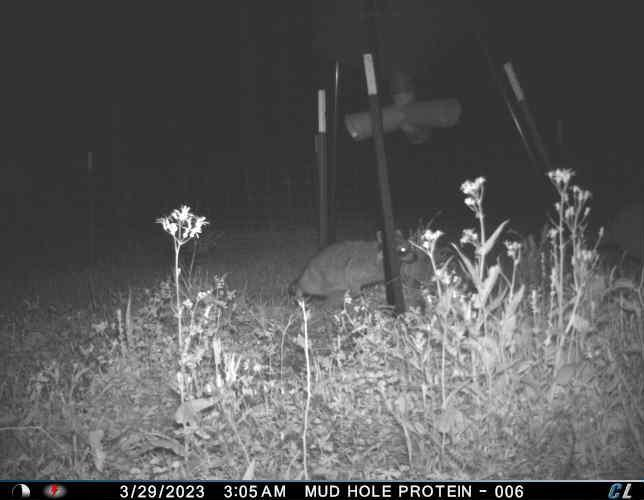Raccoon: (286, 226, 419, 316)
